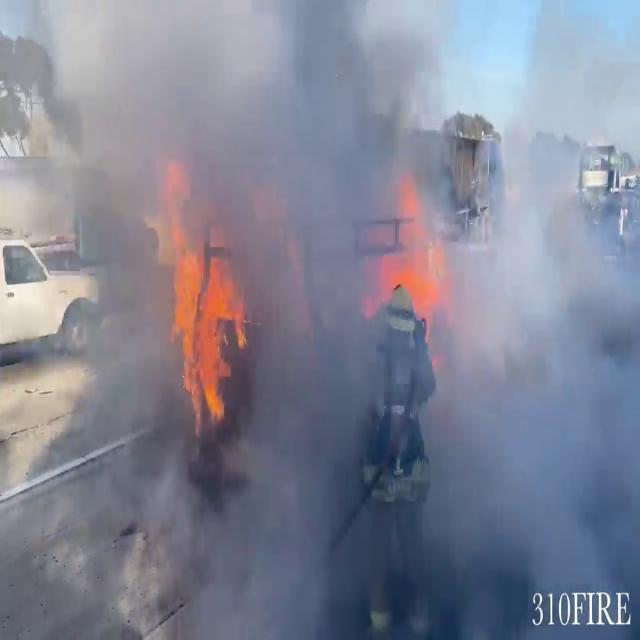Fire: (154, 170, 248, 433), (382, 154, 446, 339)
Smoke: (17, 1, 639, 628)
